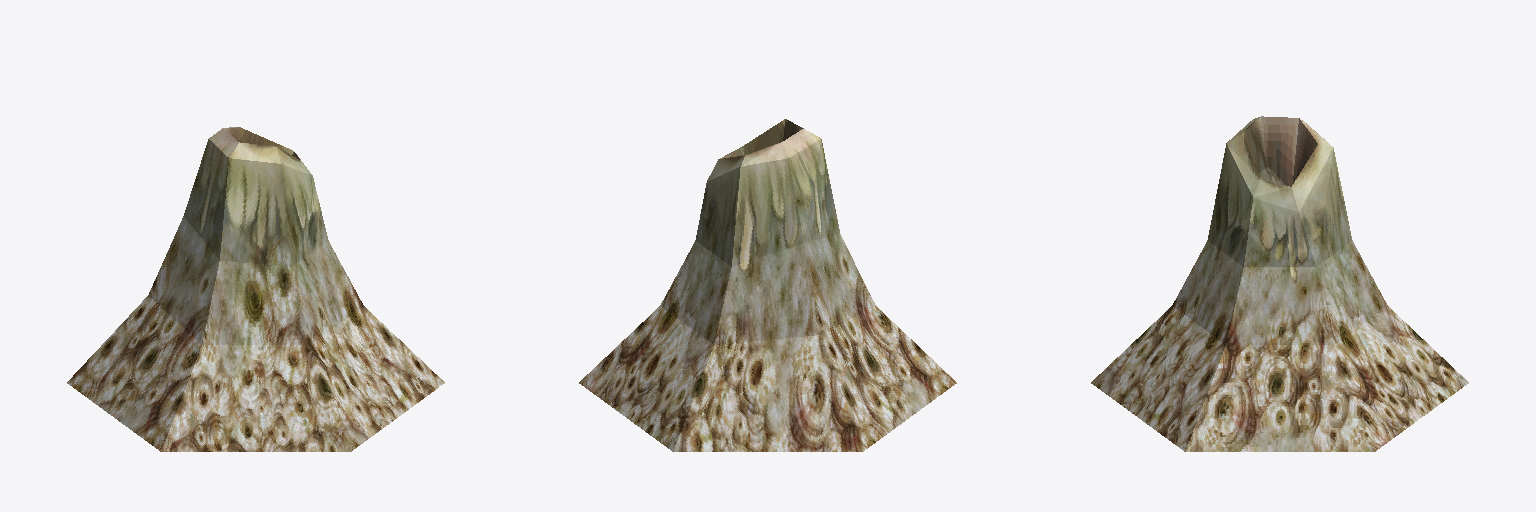
The picture shows the model from 3 angles: view 1: azimuth 30°, elevation 25°; view 2: azimuth 150°, elevation 25°; view 3: azimuth 270°, elevation 25°; orthographic projection.
Visible parts, largest first — view 1: borean_geysernosteam_04; view 2: borean_geysernosteam_04; view 3: borean_geysernosteam_04.
Boxes of the visible parts, x1,y1,x2,y2 form: borean_geysernosteam_04: [67, 127, 444, 451]; borean_geysernosteam_04: [579, 119, 956, 451]; borean_geysernosteam_04: [1091, 116, 1468, 451].
Size of the model in its own units: 6.51 by 5.56 by 7.52.
Materials: 1 (1 with a texture image).